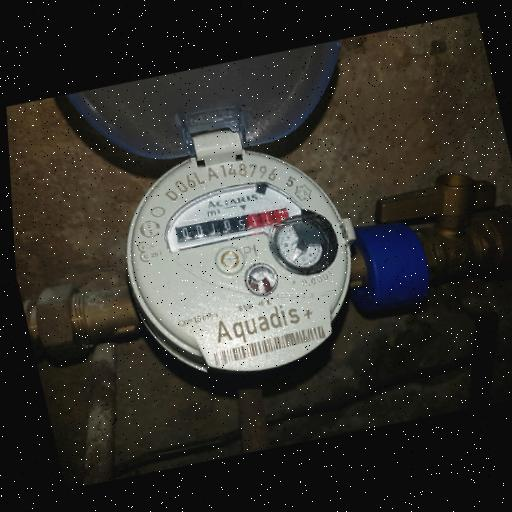0: (190, 221, 207, 239), (178, 224, 194, 241), (219, 217, 234, 234)
1: (258, 208, 275, 227), (205, 219, 220, 237), (246, 212, 261, 229)
4: (273, 206, 290, 223)
5: (232, 214, 247, 231)
border_water_meter_number: (170, 199, 292, 247)
